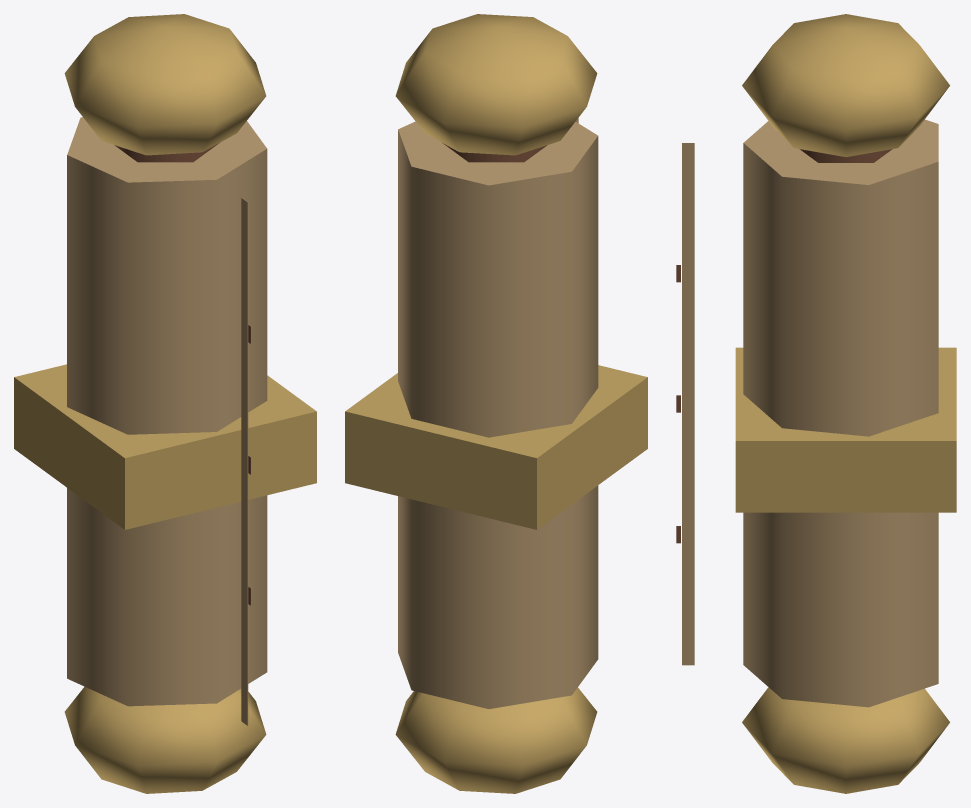
Rendered from scroll-1-lod1.glb.
The picture shows the model from 3 angles, left to right: view 1: azimuth 30°, elevation 25°; view 2: azimuth 150°, elevation 25°; view 3: azimuth 270°, elevation 25°; orthographic projection.
Parts seen in each view (by area): view 1: piece_whole, ReadingSheet; view 2: piece_whole; view 3: piece_whole, ReadingSheet.
Boxes of the visible parts, x1=… form: piece_whole: x1=14, y1=14, x2=316, y2=793; ReadingSheet: x1=241, y1=197, x2=250, y2=725; piece_whole: x1=345, y1=14, x2=647, y2=793; piece_whole: x1=735, y1=14, x2=956, y2=793; ReadingSheet: x1=676, y1=143, x2=694, y2=665.
Bounding box in the file's own units: 0.14 × 0.525 × 0.1775.
